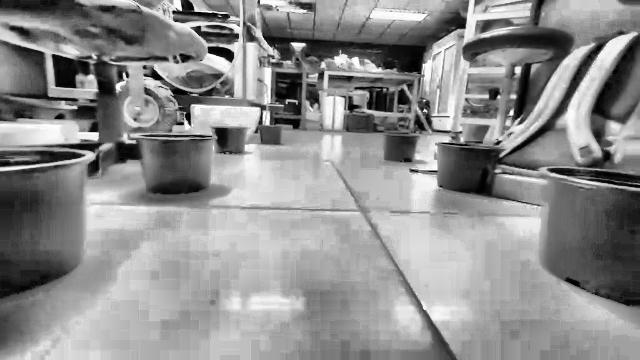pot: (0, 147, 94, 299), (542, 167, 639, 306), (132, 130, 215, 194), (437, 142, 501, 192), (384, 131, 419, 162), (211, 126, 246, 153), (259, 124, 282, 144), (36, 214, 36, 214), (35, 210, 35, 211)
